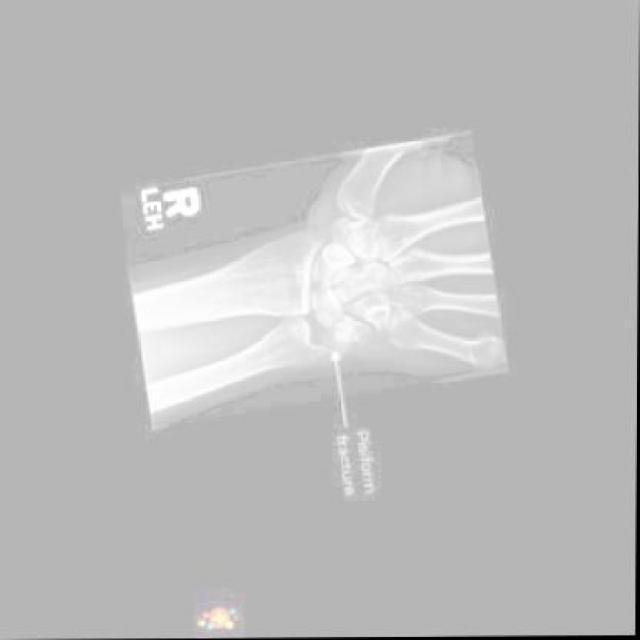Fracture: (319, 323, 356, 363)
